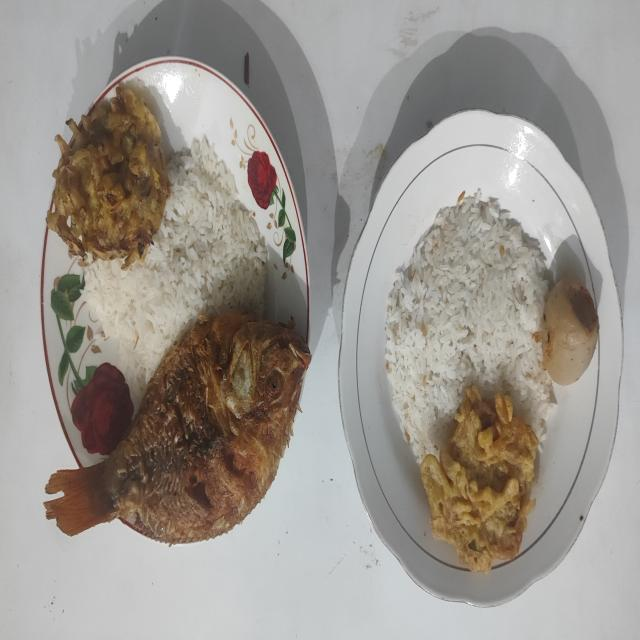ikan_mujair: (45, 310, 312, 544)
nasi_putih: (384, 192, 556, 464), (85, 138, 268, 384)
